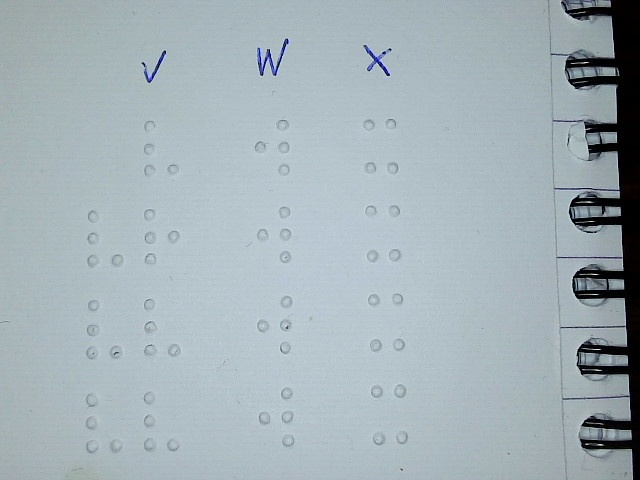V: (140, 389, 182, 451), (84, 391, 126, 453), (142, 118, 182, 178), (85, 208, 125, 268)
W: (256, 384, 295, 448), (252, 116, 292, 176), (254, 204, 294, 264), (254, 294, 294, 354)
X: (369, 382, 409, 446), (361, 116, 401, 176), (363, 202, 403, 262), (366, 291, 406, 351)
